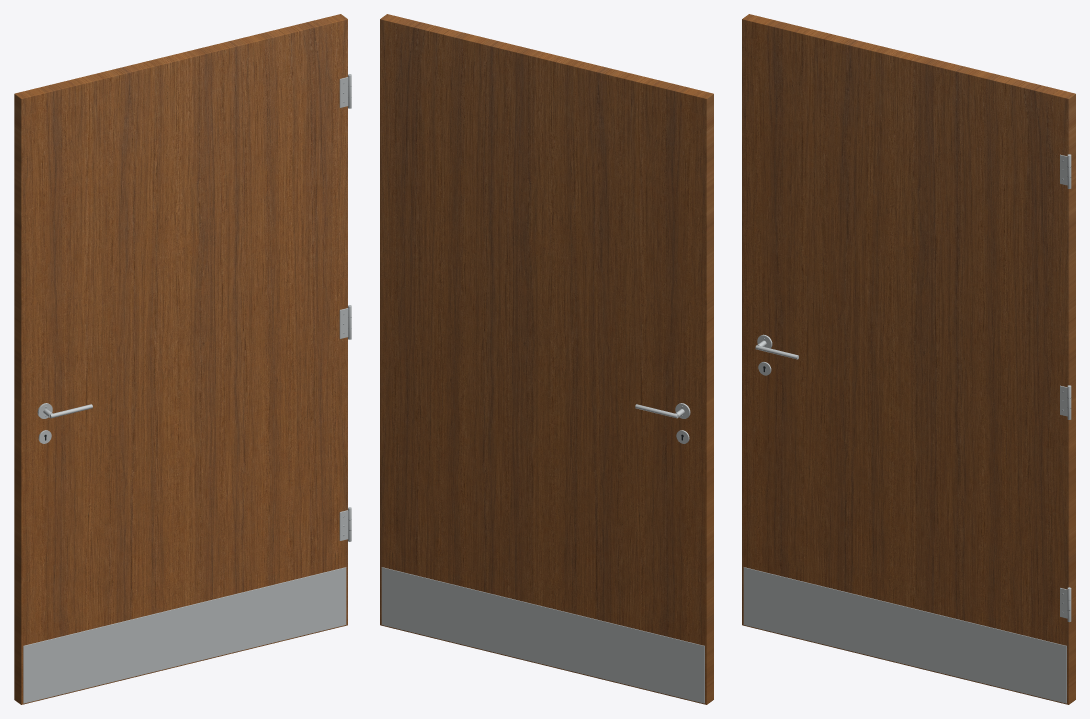
File: clubhouse_door_interior_1185_right.glb
The picture shows the model from 3 angles, left to right: view 1: azimuth 30°, elevation 25°; view 2: azimuth 150°, elevation 25°; view 3: azimuth 330°, elevation 25°; orthographic projection.
Parts seen in each view (by area): view 1: ReferenceMatchedSatinTimber, BrushedStainlessSteel; view 2: ReferenceMatchedSatinTimber, BrushedStainlessSteel; view 3: ReferenceMatchedSatinTimber, BrushedStainlessSteel.
Part boxes in pixels (x1,y1,x2,y2): ReferenceMatchedSatinTimber: (14,14,347,704); BrushedStainlessSteel: (23,74,351,703); ReferenceMatchedSatinTimber: (380,14,713,704); BrushedStainlessSteel: (381,403,704,703); ReferenceMatchedSatinTimber: (742,14,1075,704); BrushedStainlessSteel: (743,154,1071,703).
Bounding box in the file's own units: 1.2 × 2.1 × 0.1494.
3 materials, 1 textured.
